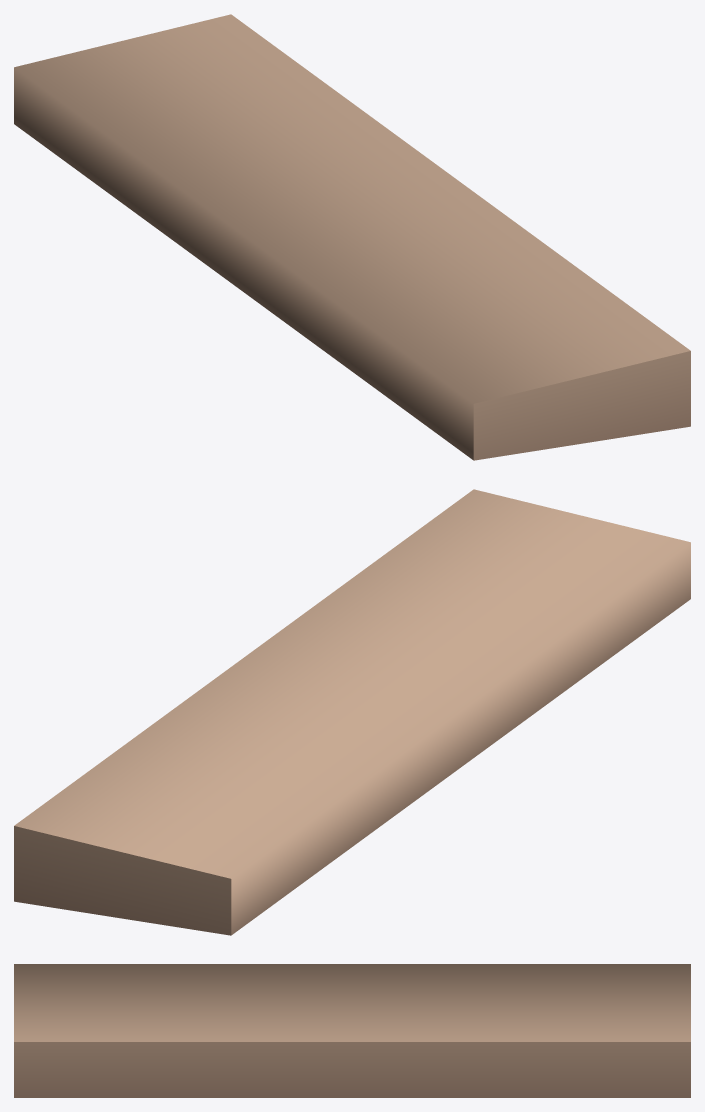
Rendered from shelf-hidden-long (%wall)_0.glb.
3 views of the same model, one above another, from view 1: azimuth 30°, elevation 25°; view 2: azimuth 150°, elevation 25°; view 3: azimuth 270°, elevation 25° (orthographic). The views are drawn at different scales.
Visible parts, largest first — view 1: shelf-hidden-long (%wall); view 2: shelf-hidden-long (%wall); view 3: shelf-hidden-long (%wall).
Boxes of the visible parts, left/top/right/bottom form: shelf-hidden-long (%wall): left=14, top=14, right=690, bottom=460; shelf-hidden-long (%wall): left=14, top=489, right=690, bottom=935; shelf-hidden-long (%wall): left=14, top=964, right=690, bottom=1097.
Bounding box in the file's own units: 0.3 × 0.1 × 1.1.
